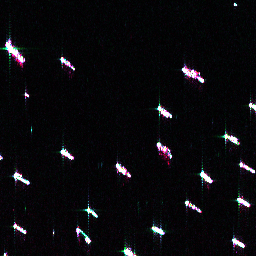ship: (1, 38, 28, 65), (178, 64, 208, 85), (152, 138, 177, 161), (112, 159, 134, 181), (72, 224, 93, 247), (56, 53, 78, 73), (221, 129, 243, 147), (181, 198, 203, 215), (154, 103, 174, 121), (11, 170, 32, 187), (196, 168, 215, 186), (57, 145, 76, 162), (234, 194, 252, 210), (149, 222, 167, 238), (10, 221, 29, 236), (237, 160, 255, 175), (229, 235, 247, 250), (84, 205, 100, 220), (120, 245, 137, 256), (245, 99, 256, 113), (23, 91, 30, 98)
